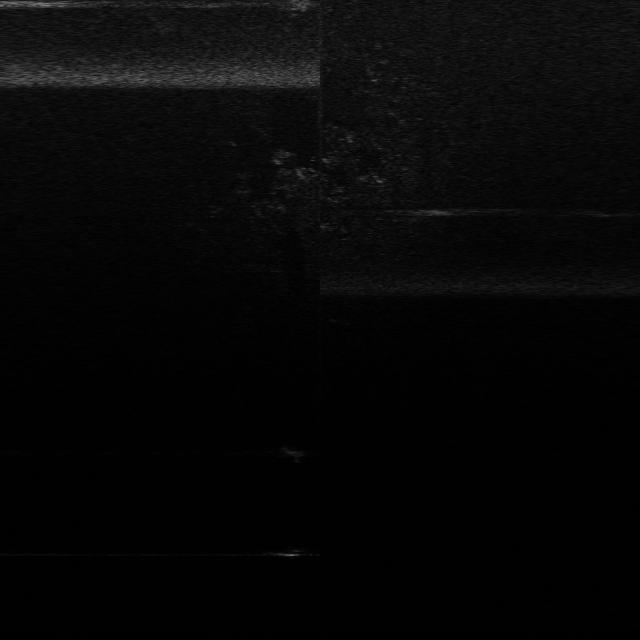cube: (266, 543, 310, 558)
square cage: (276, 442, 310, 458)
